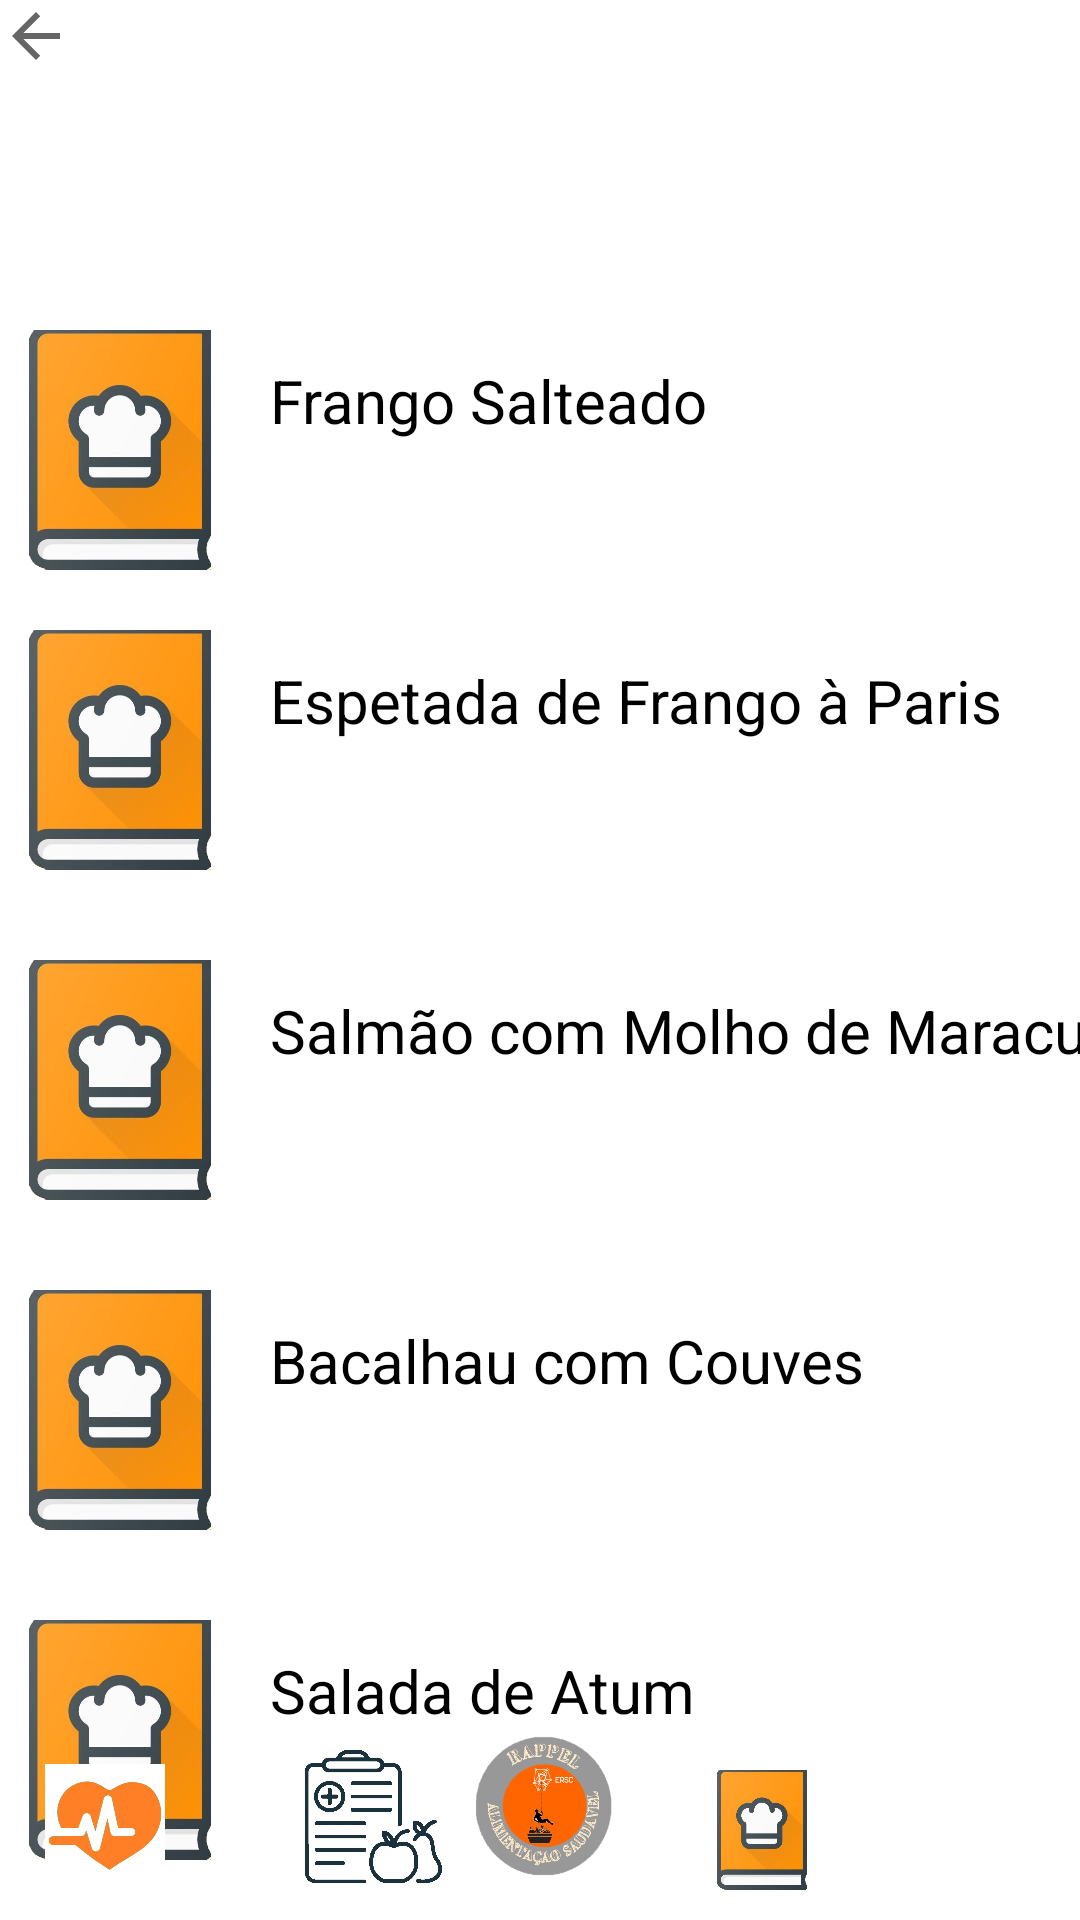

Point at icon controls on the screen. Image size 1080px×1920px, points as (x=x, y=y).
plano: (x=373, y=1816)
planodesaude: (x=105, y=1825)
